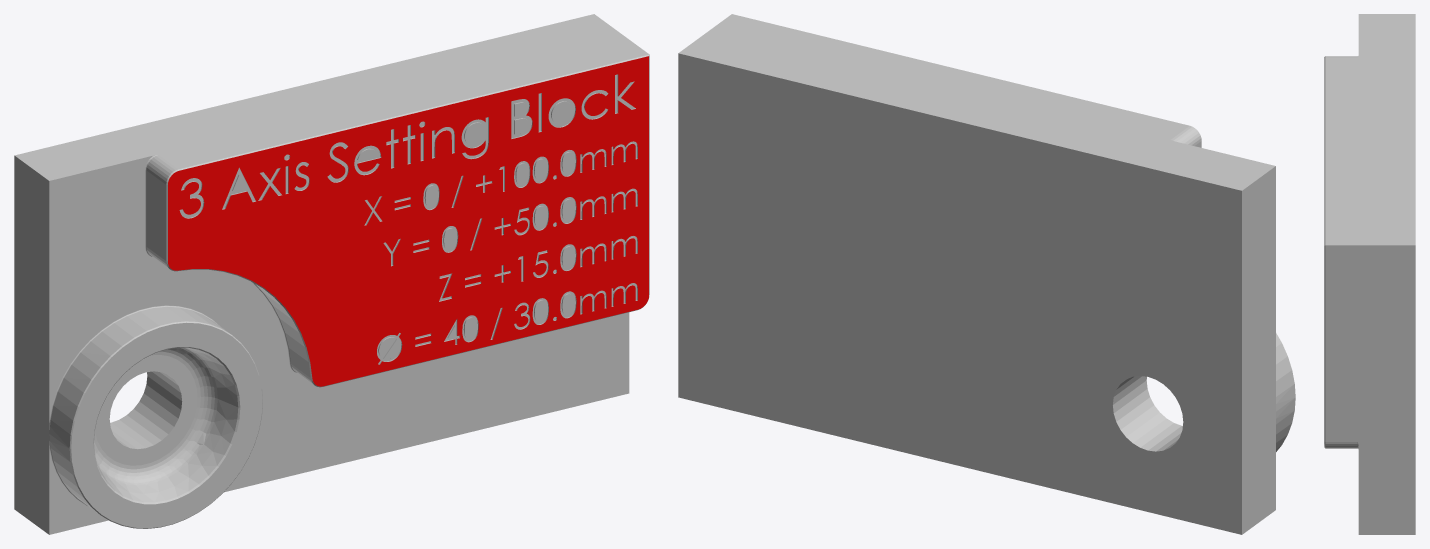
File: TESTE_M3_stp_1.obj
3 renders of one model, left to right at view 1: azimuth 30°, elevation 25°; view 2: azimuth 150°, elevation 25°; view 3: azimuth 270°, elevation 25°, orthographic. The views are drawn at different scales.
Visible parts, largest first — view 1: Object1; view 2: Object1; view 3: Object1.
Boxes of the visible parts, <box> form: Object1: <box>14,14,649,534</box>; Object1: <box>678,14,1295,534</box>; Object1: <box>1324,14,1415,534</box>.
Bounding box in the file's own units: 120 × 70 × 20.
